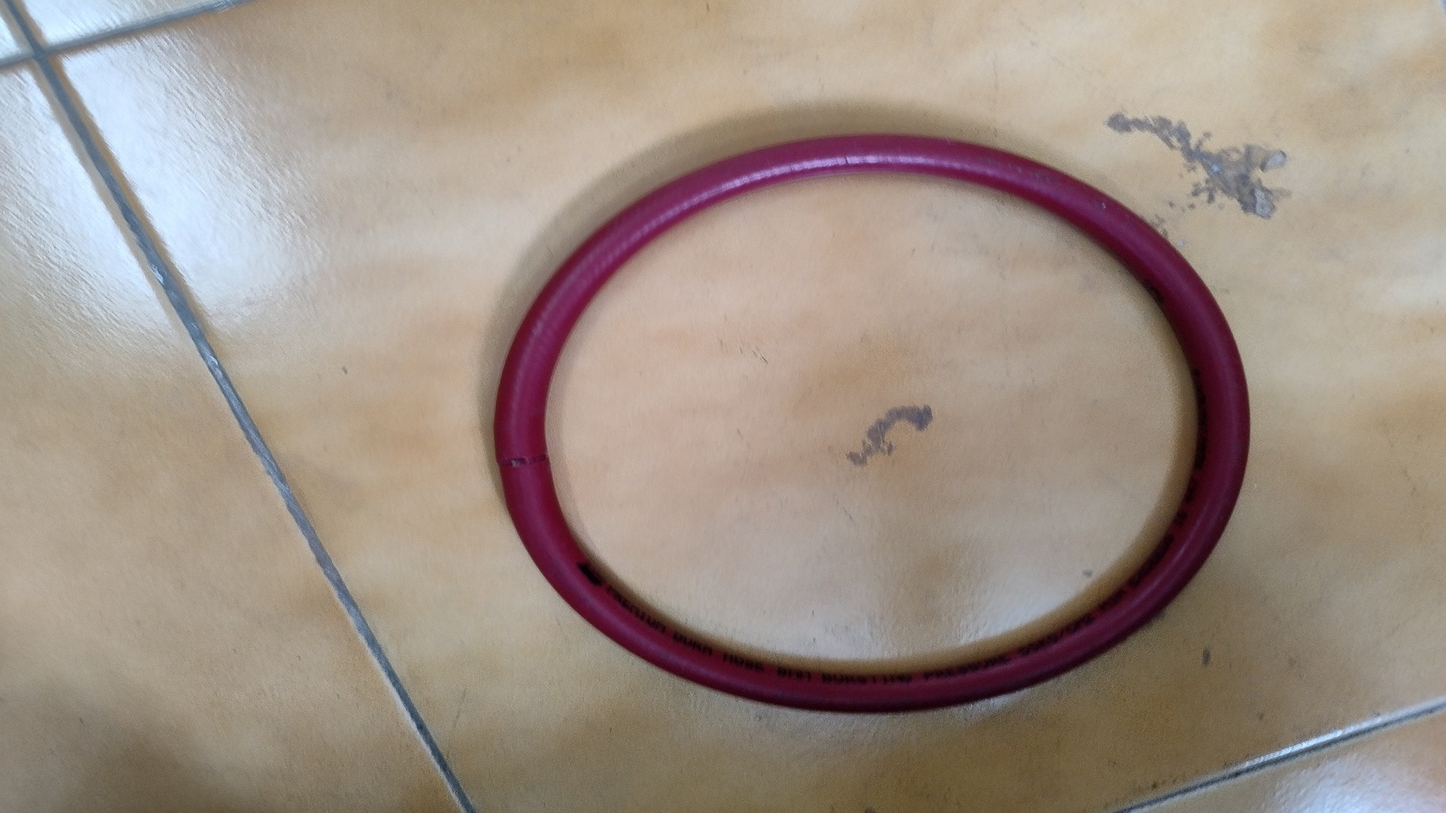Red ring: (490, 139, 1250, 714)
